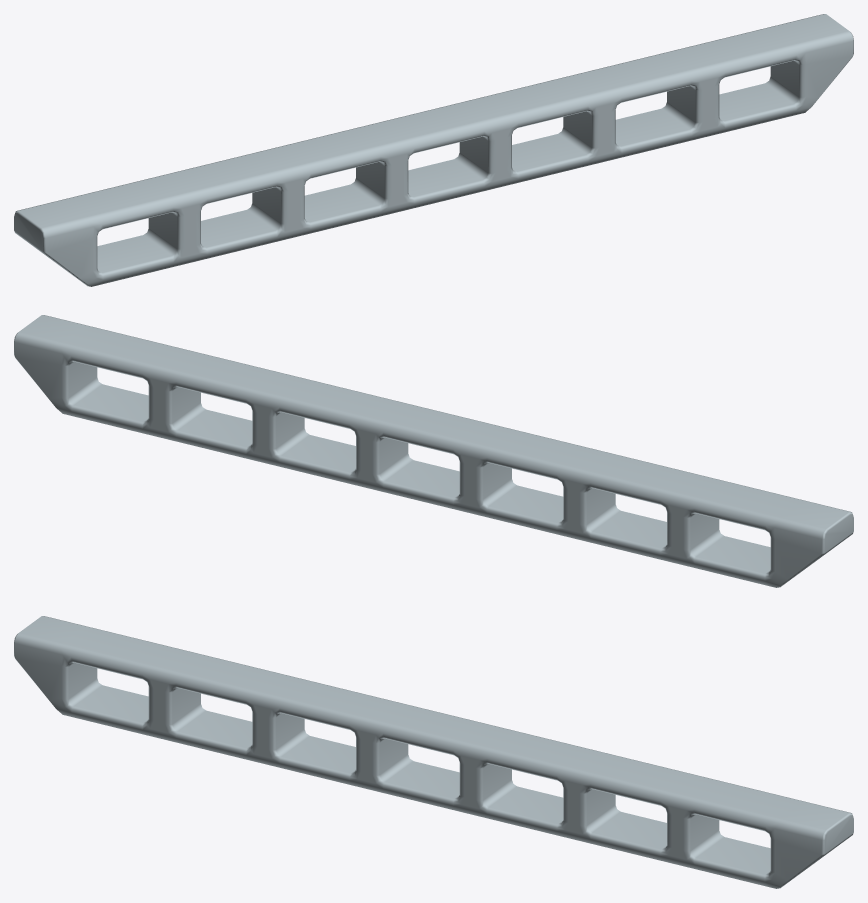
File: beam_001.fbx
3 renders of one model, top to bottom at view 1: azimuth 30°, elevation 25°; view 2: azimuth 150°, elevation 25°; view 3: azimuth 330°, elevation 25°, orthographic.
Visible parts, largest first — view 1: beam_001; view 2: beam_001; view 3: beam_001.
Boxes of the visible parts, <box> form: beam_001: <box>14,14,853,286</box>; beam_001: <box>14,315,853,587</box>; beam_001: <box>14,616,853,888</box>.
Size of the model in its own units: 5071 by 337 by 423.
